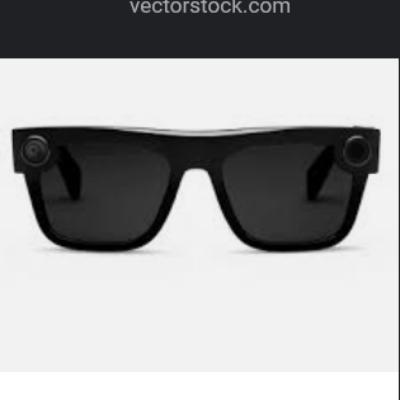glasses: (8, 119, 385, 259)
